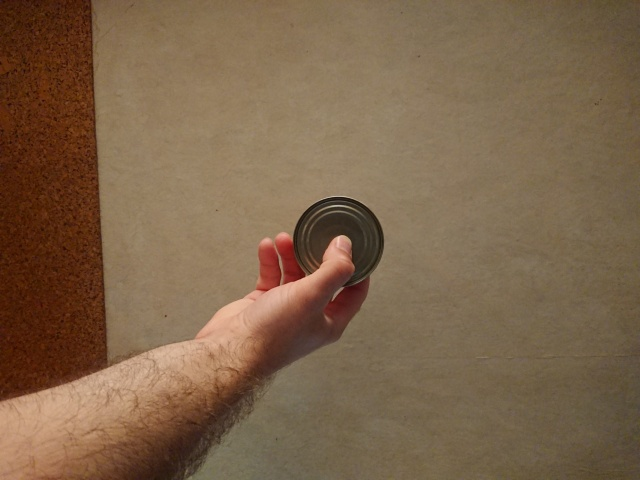Podravka Luncheon Meat 150g: (290, 193, 386, 290)
